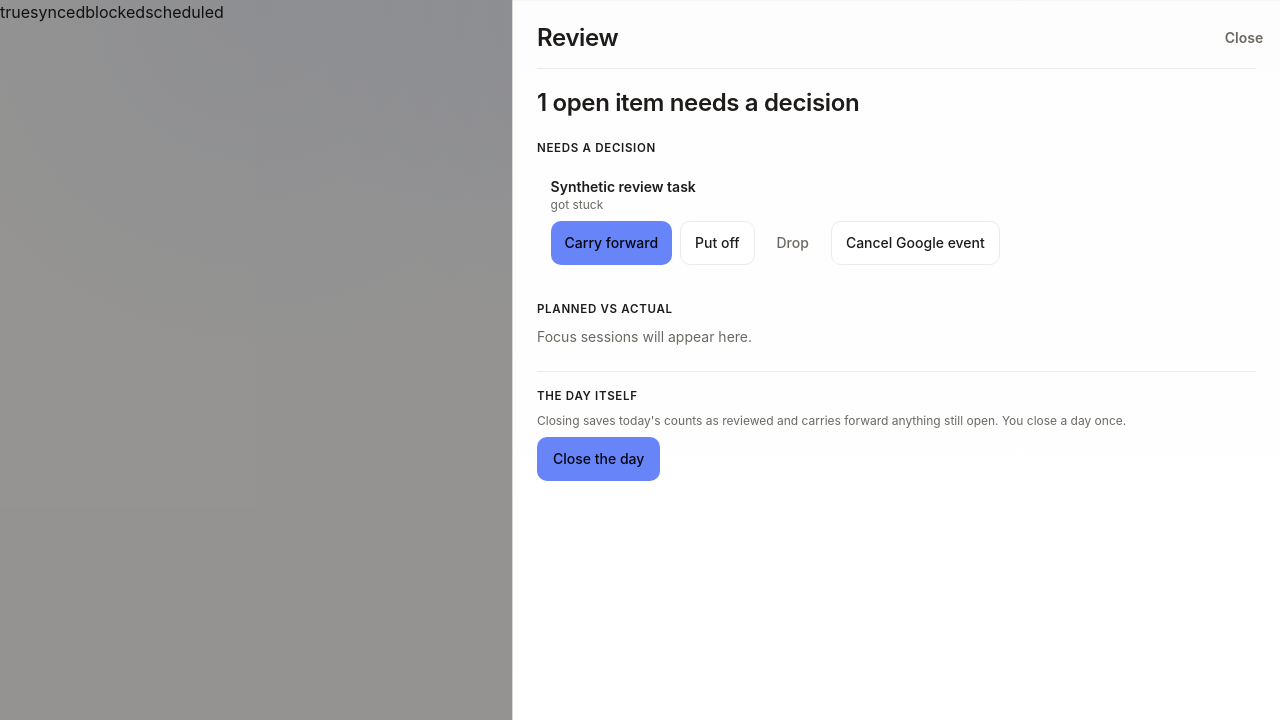
it: ReviewSheet account save truth › cancelling the stuck task's Google event clears the way to put it off
expect the text with test id "account-read-settled" reads "true": met, box [0,2,30,22]
What coordinates should you click on to do the following:
click the button "Cancel Google event"
I would click on:
 (915, 244)
Its box is [831,222,1000,266].
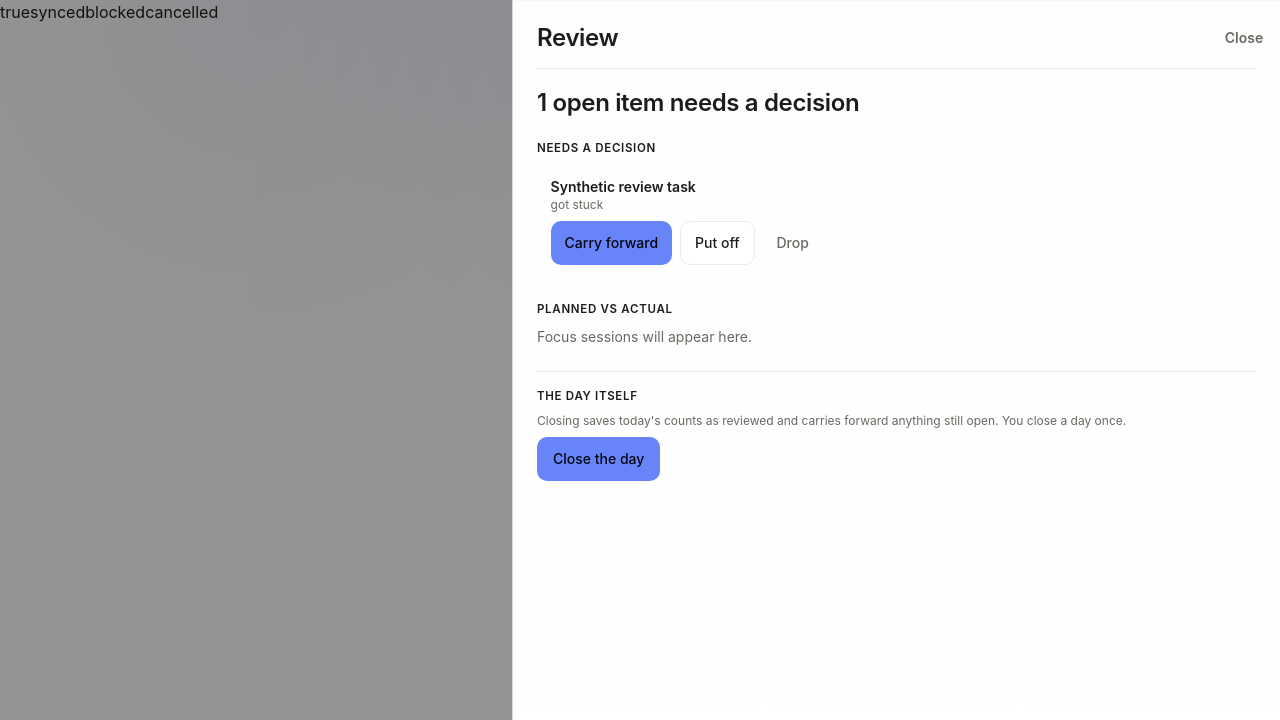
expect the text with test id "block-status" reads "cancelled": met, box [145,2,218,22]
